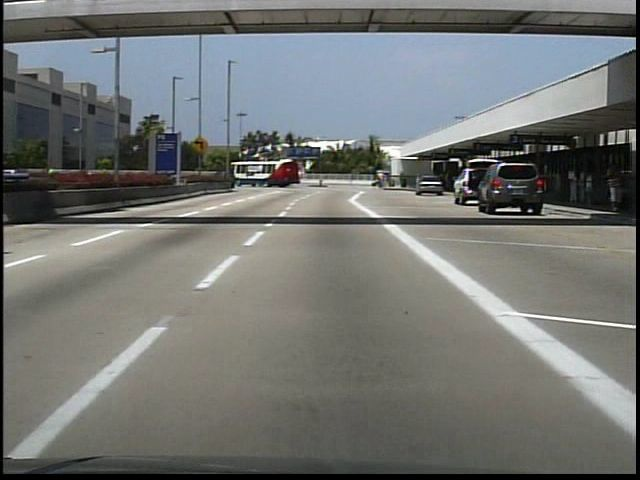person: (603, 164, 624, 211)
